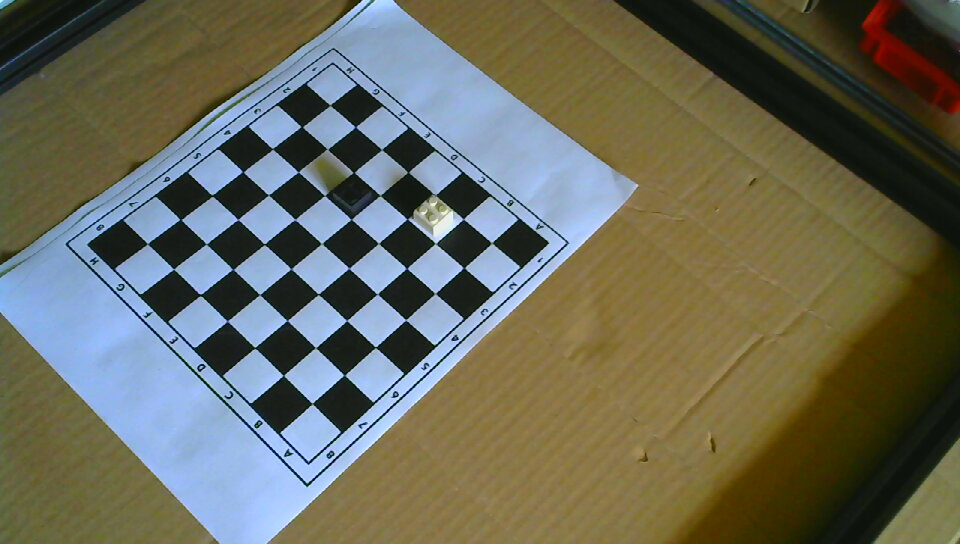bp: (331, 174, 374, 217)
wp: (412, 192, 457, 238)
